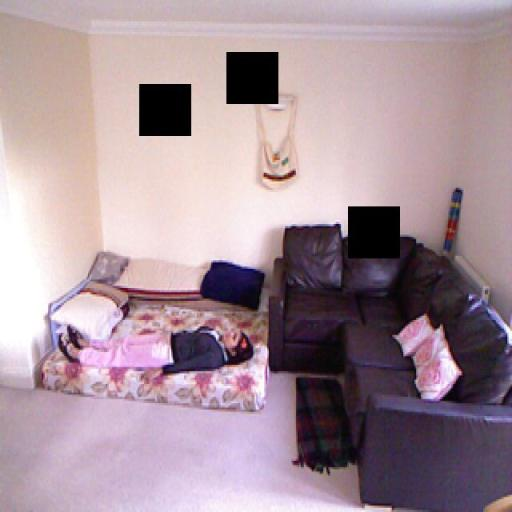Fall: (53, 310, 259, 379)
